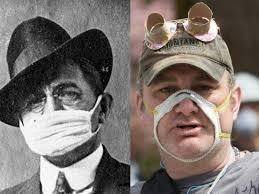Wearing Mask: (6, 20, 123, 168)
Wore Mask Incorrectly: (137, 11, 251, 172)
